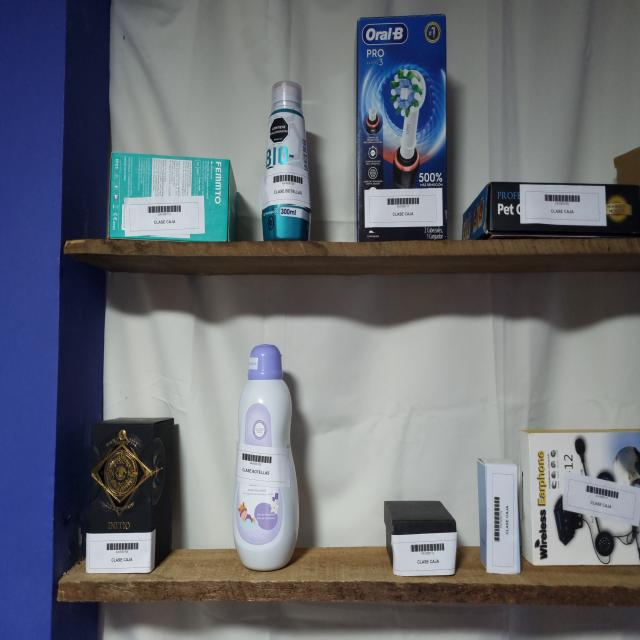botella: (233, 344, 299, 571), (260, 81, 311, 241)
caja: (356, 15, 447, 241), (518, 426, 640, 575), (86, 418, 175, 573), (109, 152, 237, 242), (462, 180, 640, 240), (384, 500, 457, 576), (476, 458, 523, 574)
